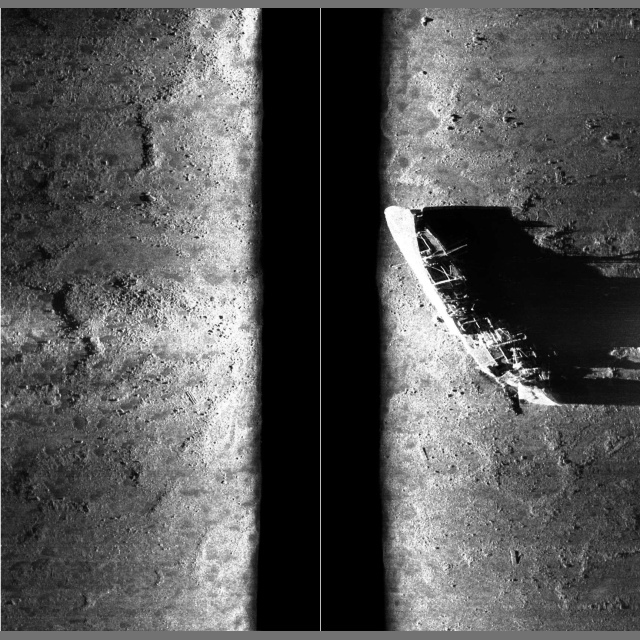Shipwreck: (186, 170, 563, 565)
